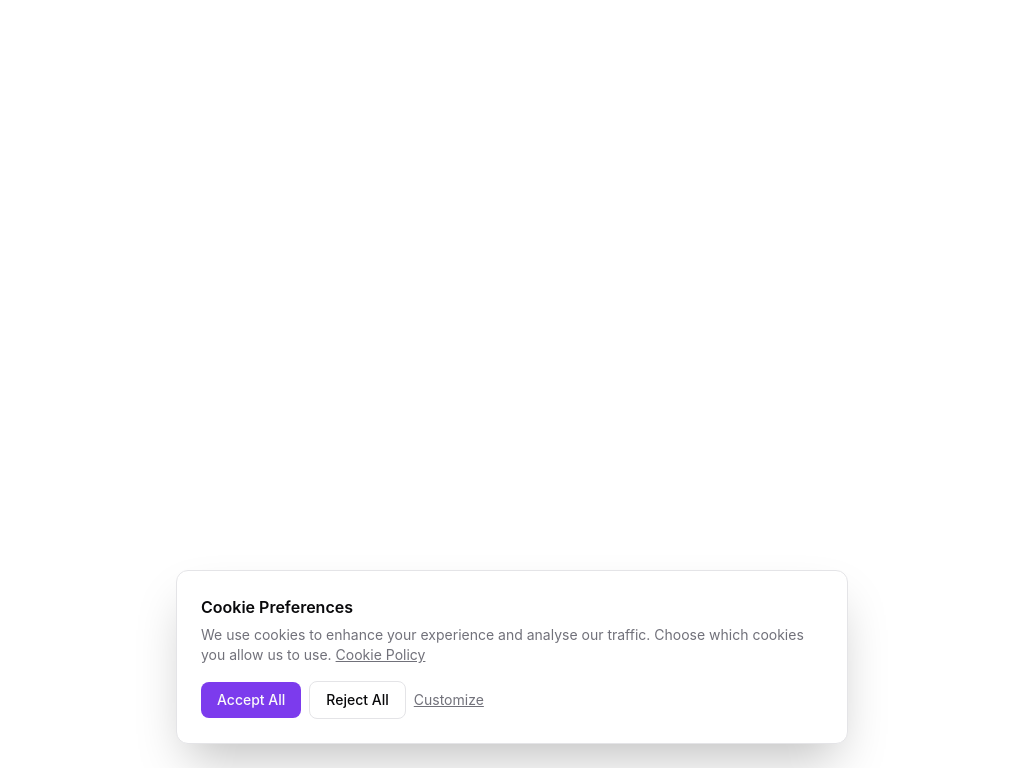
Test: CookieConsentBanner › custom categories › renders custom category names in customize mode
Click the button "Customize" at x=449, y=700, box x1=414 y1=690 x2=484 y2=710
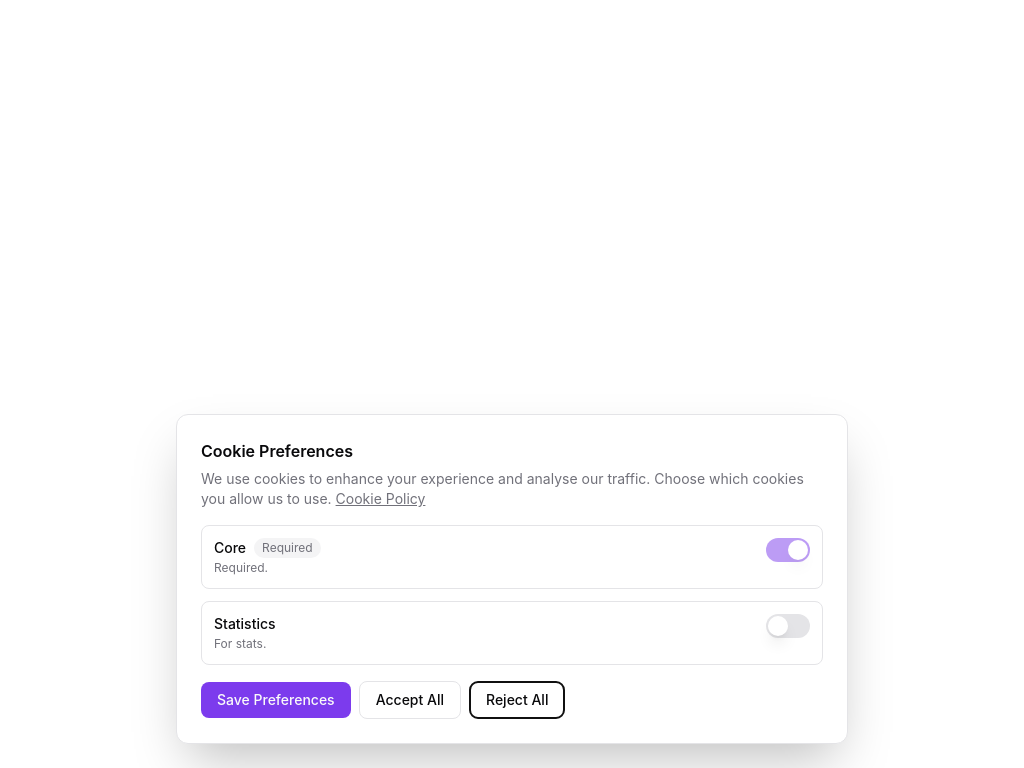
Result: the text "Core" is shown at x1=214 y1=538 x2=246 y2=558
Result: the text "Statistics" is shown at x1=214 y1=614 x2=276 y2=634
